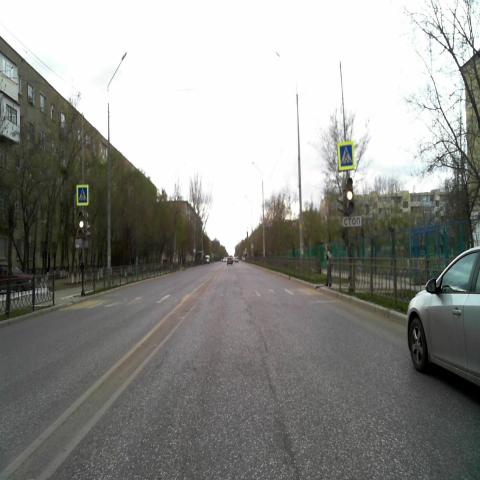6_16: (343, 216, 362, 228)
